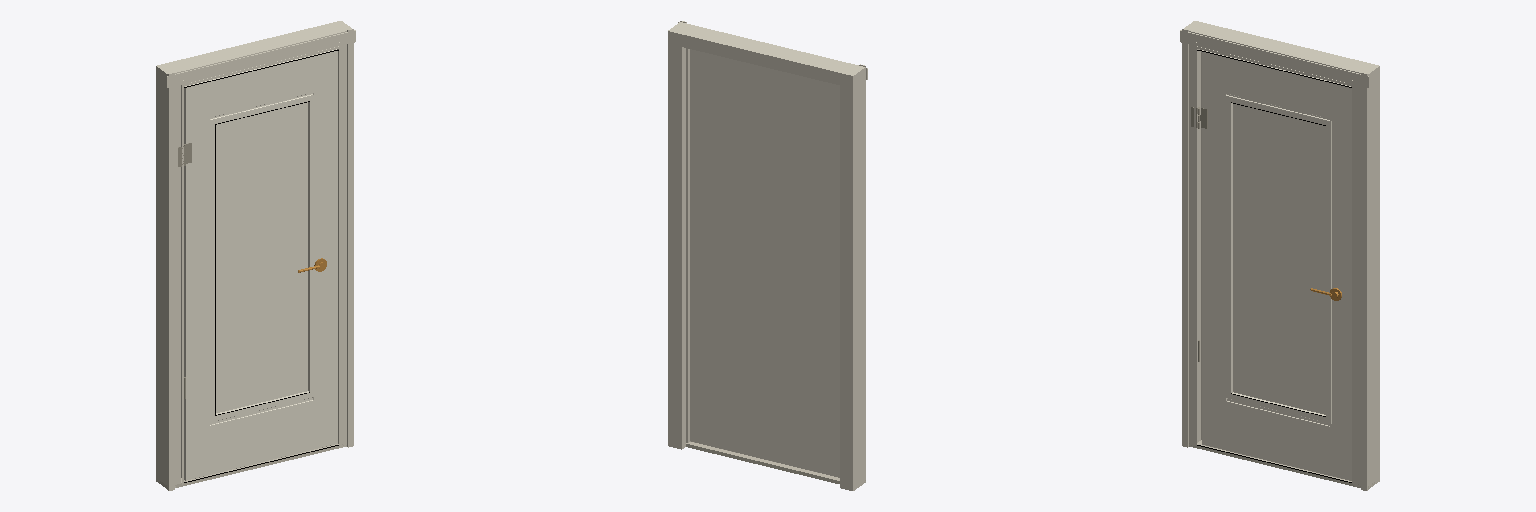
URDF robot description (single_leaf_interior_door):
<?xml version='1.0' encoding='utf-8'?>
<robot name="single_leaf_interior_door">
  <material name="off_white_frame_satin">
    <color rgba="0.88 0.86 0.8 1" />
  </material>
  <material name="off_white_door_satin">
    <color rgba="0.92 0.9 0.84 1" />
  </material>
  <material name="dark_reveal_gasket">
    <color rgba="0.02 0.018 0.015 1" />
  </material>
  <material name="satin_nickel">
    <color rgba="0.66 0.64 0.58 1" />
  </material>
  <material name="warm_brushed_brass">
    <color rgba="0.78 0.58 0.31 1" />
  </material>
  <material name="painted_low_sill">
    <color rgba="0.82 0.8 0.74 1" />
  </material>
  <link name="fixed_frame">
    <visual name="left_jamb">
      <origin xyz="-0.055 0.0575 1.07" rpy="0 0 0" />
      <geometry>
        <box size="0.07 0.115 2.14" />
      </geometry>
      <material name="off_white_frame_satin">
        <color rgba="0.88 0.86 0.8 1" />
      </material>
    </visual>
    <visual name="right_jamb">
      <origin xyz="0.8715 0.0575 1.07" rpy="0 0 0" />
      <geometry>
        <box size="0.077 0.115 2.14" />
      </geometry>
      <material name="off_white_frame_satin">
        <color rgba="0.88 0.86 0.8 1" />
      </material>
    </visual>
    <visual name="header">
      <origin xyz="0.41 0.0575 2.1075" rpy="0 0 0" />
      <geometry>
        <box size="1 0.115 0.065" />
      </geometry>
      <material name="off_white_frame_satin">
        <color rgba="0.88 0.86 0.8 1" />
      </material>
    </visual>
    <visual name="left_casing_trim">
      <origin xyz="-0.073 -0.003 1.07" rpy="0 0 0" />
      <geometry>
        <box size="0.034 0.006 2.15" />
      </geometry>
      <material name="off_white_frame_satin">
        <color rgba="0.88 0.86 0.8 1" />
      </material>
    </visual>
    <visual name="right_casing_trim">
      <origin xyz="0.893 -0.003 1.07" rpy="0 0 0" />
      <geometry>
        <box size="0.034 0.006 2.15" />
      </geometry>
      <material name="off_white_frame_satin">
        <color rgba="0.88 0.86 0.8 1" />
      </material>
    </visual>
    <visual name="header_casing_trim">
      <origin xyz="0.41 -0.003 2.105" rpy="0 0 0" />
      <geometry>
        <box size="1.02 0.006 0.06" />
      </geometry>
      <material name="off_white_frame_satin">
        <color rgba="0.88 0.86 0.8 1" />
      </material>
    </visual>
    <visual name="left_trim_lip">
      <origin xyz="-0.014 -0.0065 1.055" rpy="0 0 0" />
      <geometry>
        <box size="0.012 0.003 2.08" />
      </geometry>
      <material name="off_white_frame_satin">
        <color rgba="0.88 0.86 0.8 1" />
      </material>
    </visual>
    <visual name="right_trim_lip">
      <origin xyz="0.834 -0.0065 1.055" rpy="0 0 0" />
      <geometry>
        <box size="0.012 0.003 2.08" />
      </geometry>
      <material name="off_white_frame_satin">
        <color rgba="0.88 0.86 0.8 1" />
      </material>
    </visual>
    <visual name="header_trim_lip">
      <origin xyz="0.41 -0.0065 2.069" rpy="0 0 0" />
      <geometry>
        <box size="0.86 0.003 0.012" />
      </geometry>
      <material name="off_white_frame_satin">
        <color rgba="0.88 0.86 0.8 1" />
      </material>
    </visual>
    <visual name="left_door_stop">
      <origin xyz="-0.0125 0.066 1.035" rpy="0 0 0" />
      <geometry>
        <box size="0.015 0.018 2.05" />
      </geometry>
      <material name="off_white_frame_satin">
        <color rgba="0.88 0.86 0.8 1" />
      </material>
    </visual>
    <visual name="right_door_stop">
      <origin xyz="0.8325 0.066 1.035" rpy="0 0 0" />
      <geometry>
        <box size="0.015 0.018 2.05" />
      </geometry>
      <material name="off_white_frame_satin">
        <color rgba="0.88 0.86 0.8 1" />
      </material>
    </visual>
    <visual name="header_door_stop">
      <origin xyz="0.41 0.066 2.062" rpy="0 0 0" />
      <geometry>
        <box size="0.86 0.018 0.014" />
      </geometry>
      <material name="off_white_frame_satin">
        <color rgba="0.88 0.86 0.8 1" />
      </material>
    </visual>
    <visual name="dark_reveal_left">
      <origin xyz="-0.018 -0.005 1.035" rpy="0 0 0" />
      <geometry>
        <box size="0.004 0.002 2.036" />
      </geometry>
      <material name="dark_reveal_gasket">
        <color rgba="0.02 0.018 0.015 1" />
      </material>
    </visual>
    <visual name="dark_reveal_right">
      <origin xyz="0.838 -0.005 1.035" rpy="0 0 0" />
      <geometry>
        <box size="0.004 0.002 2.036" />
      </geometry>
      <material name="dark_reveal_gasket">
        <color rgba="0.02 0.018 0.015 1" />
      </material>
    </visual>
    <visual name="dark_reveal_header">
      <origin xyz="0.41 -0.005 2.056" rpy="0 0 0" />
      <geometry>
        <box size="0.86 0.002 0.004" />
      </geometry>
      <material name="dark_reveal_gasket">
        <color rgba="0.02 0.018 0.015 1" />
      </material>
    </visual>
    <visual name="threshold">
      <origin xyz="0.41 0.04 0.009" rpy="0 0 0" />
      <geometry>
        <box size="1 0.08 0.018" />
      </geometry>
      <material name="painted_low_sill">
        <color rgba="0.82 0.8 0.74 1" />
      </material>
    </visual>
    <visual name="dark_reveal_threshold">
      <origin xyz="0.41 -0.005 0.02" rpy="0 0 0" />
      <geometry>
        <box size="0.86 0.002 0.004" />
      </geometry>
      <material name="dark_reveal_gasket">
        <color rgba="0.02 0.018 0.015 1" />
      </material>
    </visual>
    <collision name="left_jamb">
      <origin xyz="-0.055 0.0575 1.07" rpy="0 0 0" />
      <geometry>
        <box size="0.07 0.115 2.14" />
      </geometry>
    </collision>
    <collision name="right_jamb">
      <origin xyz="0.8715 0.0575 1.07" rpy="0 0 0" />
      <geometry>
        <box size="0.077 0.115 2.14" />
      </geometry>
    </collision>
    <collision name="header">
      <origin xyz="0.41 0.0575 2.1075" rpy="0 0 0" />
      <geometry>
        <box size="1 0.115 0.065" />
      </geometry>
    </collision>
    <collision name="left_casing_trim">
      <origin xyz="-0.073 -0.003 1.07" rpy="0 0 0" />
      <geometry>
        <box size="0.034 0.006 2.15" />
      </geometry>
    </collision>
    <collision name="right_casing_trim">
      <origin xyz="0.893 -0.003 1.07" rpy="0 0 0" />
      <geometry>
        <box size="0.034 0.006 2.15" />
      </geometry>
    </collision>
    <collision name="header_casing_trim">
      <origin xyz="0.41 -0.003 2.105" rpy="0 0 0" />
      <geometry>
        <box size="1.02 0.006 0.06" />
      </geometry>
    </collision>
    <collision name="left_trim_lip">
      <origin xyz="-0.014 -0.0065 1.055" rpy="0 0 0" />
      <geometry>
        <box size="0.012 0.003 2.08" />
      </geometry>
    </collision>
    <collision name="right_trim_lip">
      <origin xyz="0.834 -0.0065 1.055" rpy="0 0 0" />
      <geometry>
        <box size="0.012 0.003 2.08" />
      </geometry>
    </collision>
    <collision name="header_trim_lip">
      <origin xyz="0.41 -0.0065 2.069" rpy="0 0 0" />
      <geometry>
        <box size="0.86 0.003 0.012" />
      </geometry>
    </collision>
    <collision name="left_door_stop">
      <origin xyz="-0.0125 0.066 1.035" rpy="0 0 0" />
      <geometry>
        <box size="0.015 0.018 2.05" />
      </geometry>
    </collision>
    <collision name="right_door_stop">
      <origin xyz="0.8325 0.066 1.035" rpy="0 0 0" />
      <geometry>
        <box size="0.015 0.018 2.05" />
      </geometry>
    </collision>
    <collision name="header_door_stop">
      <origin xyz="0.41 0.066 2.062" rpy="0 0 0" />
      <geometry>
        <box size="0.86 0.018 0.014" />
      </geometry>
    </collision>
    <collision name="dark_reveal_left">
      <origin xyz="-0.018 -0.005 1.035" rpy="0 0 0" />
      <geometry>
        <box size="0.004 0.002 2.036" />
      </geometry>
    </collision>
    <collision name="dark_reveal_right">
      <origin xyz="0.838 -0.005 1.035" rpy="0 0 0" />
      <geometry>
        <box size="0.004 0.002 2.036" />
      </geometry>
    </collision>
    <collision name="dark_reveal_header">
      <origin xyz="0.41 -0.005 2.056" rpy="0 0 0" />
      <geometry>
        <box size="0.86 0.002 0.004" />
      </geometry>
    </collision>
    <collision name="threshold">
      <origin xyz="0.41 0.04 0.009" rpy="0 0 0" />
      <geometry>
        <box size="1 0.08 0.018" />
      </geometry>
    </collision>
    <collision name="dark_reveal_threshold">
      <origin xyz="0.41 -0.005 0.02" rpy="0 0 0" />
      <geometry>
        <box size="0.86 0.002 0.004" />
      </geometry>
    </collision>
  </link>
  <link name="door_panel">
    <visual name="door_leaf">
      <geometry>
        <mesh filename="assets/meshes/raised_panel_door_leaf.obj" />
      </geometry>
      <material name="off_white_door_satin">
        <color rgba="0.92 0.9 0.84 1" />
      </material>
    </visual>
    <visual name="recess_shadow_top">
      <origin xyz="0.424 0.0082 1.82" rpy="0 0 0" />
      <geometry>
        <box size="0.512 0.0015 0.003" />
      </geometry>
      <material name="dark_reveal_gasket">
        <color rgba="0.02 0.018 0.015 1" />
      </material>
    </visual>
    <visual name="recess_shadow_bottom">
      <origin xyz="0.424 0.0082 0.32" rpy="0 0 0" />
      <geometry>
        <box size="0.512 0.0015 0.003" />
      </geometry>
      <material name="dark_reveal_gasket">
        <color rgba="0.02 0.018 0.015 1" />
      </material>
    </visual>
    <visual name="recess_shadow_left">
      <origin xyz="0.168 0.0082 1.07" rpy="0 0 0" />
      <geometry>
        <box size="0.003 0.0015 1.5" />
      </geometry>
      <material name="dark_reveal_gasket">
        <color rgba="0.02 0.018 0.015 1" />
      </material>
    </visual>
    <visual name="recess_shadow_right">
      <origin xyz="0.68 0.0082 1.07" rpy="0 0 0" />
      <geometry>
        <box size="0.003 0.0015 1.5" />
      </geometry>
      <material name="dark_reveal_gasket">
        <color rgba="0.02 0.018 0.015 1" />
      </material>
    </visual>
    <collision name="door_leaf">
      <geometry>
        <mesh filename="assets/meshes/raised_panel_door_leaf.obj" />
      </geometry>
    </collision>
    <collision name="recess_shadow_top">
      <origin xyz="0.424 0.0082 1.82" rpy="0 0 0" />
      <geometry>
        <box size="0.512 0.0015 0.003" />
      </geometry>
    </collision>
    <collision name="recess_shadow_bottom">
      <origin xyz="0.424 0.0082 0.32" rpy="0 0 0" />
      <geometry>
        <box size="0.512 0.0015 0.003" />
      </geometry>
    </collision>
    <collision name="recess_shadow_left">
      <origin xyz="0.168 0.0082 1.07" rpy="0 0 0" />
      <geometry>
        <box size="0.003 0.0015 1.5" />
      </geometry>
    </collision>
    <collision name="recess_shadow_right">
      <origin xyz="0.68 0.0082 1.07" rpy="0 0 0" />
      <geometry>
        <box size="0.003 0.0015 1.5" />
      </geometry>
    </collision>
  </link>
  <link name="hinge_leaf_frame_0">
    <visual name="hinge_leaf_frame">
      <geometry>
        <mesh filename="assets/meshes/hinge_leaf_frame_0.obj" />
      </geometry>
      <material name="satin_nickel">
        <color rgba="0.66 0.64 0.58 1" />
      </material>
    </visual>
    <collision name="hinge_leaf_frame">
      <geometry>
        <mesh filename="assets/meshes/hinge_leaf_frame_0.obj" />
      </geometry>
    </collision>
  </link>
  <link name="hinge_pin_0">
    <visual name="hinge_pin">
      <geometry>
        <cylinder radius="0.0048" length="0.11" />
      </geometry>
      <material name="satin_nickel">
        <color rgba="0.66 0.64 0.58 1" />
      </material>
    </visual>
    <collision name="hinge_pin">
      <geometry>
        <cylinder radius="0.0048" length="0.11" />
      </geometry>
    </collision>
  </link>
  <link name="hinge_leaf_panel_0">
    <visual name="hinge_leaf_panel">
      <geometry>
        <mesh filename="assets/meshes/hinge_leaf_panel_0.obj" />
      </geometry>
      <material name="satin_nickel">
        <color rgba="0.66 0.64 0.58 1" />
      </material>
    </visual>
    <collision name="hinge_leaf_panel">
      <geometry>
        <mesh filename="assets/meshes/hinge_leaf_panel_0.obj" />
      </geometry>
    </collision>
  </link>
  <link name="hinge_leaf_frame_1">
    <visual name="hinge_leaf_frame">
      <geometry>
        <mesh filename="assets/meshes/hinge_leaf_frame_1.obj" />
      </geometry>
      <material name="satin_nickel">
        <color rgba="0.66 0.64 0.58 1" />
      </material>
    </visual>
    <collision name="hinge_leaf_frame">
      <geometry>
        <mesh filename="assets/meshes/hinge_leaf_frame_1.obj" />
      </geometry>
    </collision>
  </link>
  <link name="hinge_pin_1">
    <visual name="hinge_pin">
      <geometry>
        <cylinder radius="0.0048" length="0.11" />
      </geometry>
      <material name="satin_nickel">
        <color rgba="0.66 0.64 0.58 1" />
      </material>
    </visual>
    <collision name="hinge_pin">
      <geometry>
        <cylinder radius="0.0048" length="0.11" />
      </geometry>
    </collision>
  </link>
  <link name="hinge_leaf_panel_1">
    <visual name="hinge_leaf_panel">
      <geometry>
        <mesh filename="assets/meshes/hinge_leaf_panel_1.obj" />
      </geometry>
      <material name="satin_nickel">
        <color rgba="0.66 0.64 0.58 1" />
      </material>
    </visual>
    <collision name="hinge_leaf_panel">
      <geometry>
        <mesh filename="assets/meshes/hinge_leaf_panel_1.obj" />
      </geometry>
    </collision>
  </link>
  <link name="handle_back_plate">
    <visual name="round_rosette">
      <origin xyz="0 0 0" rpy="1.5708 0 0" />
      <geometry>
        <cylinder radius="0.032" length="0.009" />
      </geometry>
      <material name="warm_brushed_brass">
        <color rgba="0.78 0.58 0.31 1" />
      </material>
    </visual>
    <visual name="rosette_hub">
      <origin xyz="0 -0.001 0" rpy="1.5708 0 0" />
      <geometry>
        <cylinder radius="0.019" length="0.01" />
      </geometry>
      <material name="warm_brushed_brass">
        <color rgba="0.78 0.58 0.31 1" />
      </material>
    </visual>
    <collision name="round_rosette">
      <origin xyz="0 0 0" rpy="1.5708 0 0" />
      <geometry>
        <cylinder radius="0.032" length="0.009" />
      </geometry>
    </collision>
    <collision name="rosette_hub">
      <origin xyz="0 -0.001 0" rpy="1.5708 0 0" />
      <geometry>
        <cylinder radius="0.019" length="0.01" />
      </geometry>
    </collision>
  </link>
  <link name="lever_handle">
    <visual name="spindle_hub">
      <origin xyz="0 0 0.005" rpy="3.67320510335e-06 -0 0" />
      <geometry>
        <cylinder radius="0.017" length="0.01" />
      </geometry>
      <material name="warm_brushed_brass">
        <color rgba="0.78 0.58 0.31 1" />
      </material>
    </visual>
    <visual name="lever_grip">
      <origin xyz="0 0 0" rpy="-1.57079632679 -0 0" />
      <geometry>
        <mesh filename="assets/meshes/lever_grip.obj" />
      </geometry>
      <material name="warm_brushed_brass">
        <color rgba="0.78 0.58 0.31 1" />
      </material>
    </visual>
    <collision name="spindle_hub">
      <origin xyz="0 0 0.005" rpy="3.67320510335e-06 -0 0" />
      <geometry>
        <cylinder radius="0.017" length="0.01" />
      </geometry>
    </collision>
    <collision name="lever_grip">
      <origin xyz="0 0 0" rpy="-1.57079632679 -0 0" />
      <geometry>
        <mesh filename="assets/meshes/lever_grip.obj" />
      </geometry>
    </collision>
  </link>
  <link name="latch_edge">
    <visual name="latch_faceplate">
      <geometry>
        <box size="0.002 0.026 0.118" />
      </geometry>
      <material name="satin_nickel">
        <color rgba="0.66 0.64 0.58 1" />
      </material>
    </visual>
    <visual name="small_latch_tongue">
      <origin xyz="0.0022 0 0" rpy="0 0 0" />
      <geometry>
        <box size="0.0025 0.01 0.026" />
      </geometry>
      <material name="warm_brushed_brass">
        <color rgba="0.78 0.58 0.31 1" />
      </material>
    </visual>
    <collision name="latch_faceplate">
      <geometry>
        <box size="0.002 0.026 0.118" />
      </geometry>
    </collision>
    <collision name="small_latch_tongue">
      <origin xyz="0.0022 0 0" rpy="0 0 0" />
      <geometry>
        <box size="0.0025 0.01 0.026" />
      </geometry>
    </collision>
  </link>
  <link name="strike_plate">
    <visual name="strike_plate">
      <geometry>
        <box size="0.002 0.034 0.14" />
      </geometry>
      <material name="satin_nickel">
        <color rgba="0.66 0.64 0.58 1" />
      </material>
    </visual>
    <visual name="strike_pocket">
      <origin xyz="-0.0003 0 0" rpy="0 0 0" />
      <geometry>
        <box size="0.0023 0.018 0.04" />
      </geometry>
      <material name="dark_reveal_gasket">
        <color rgba="0.02 0.018 0.015 1" />
      </material>
    </visual>
    <collision name="strike_plate">
      <geometry>
        <box size="0.002 0.034 0.14" />
      </geometry>
    </collision>
    <collision name="strike_pocket">
      <origin xyz="-0.0003 0 0" rpy="0 0 0" />
      <geometry>
        <box size="0.0023 0.018 0.04" />
      </geometry>
    </collision>
  </link>
  <joint name="hinge_leaf_frame_mount_0" type="fixed">
    <origin xyz="0 0 1.705" rpy="0 0 0" />
    <parent link="fixed_frame" />
    <child link="hinge_leaf_frame_0" />
  </joint>
  <joint name="hinge_pin_mount_0" type="fixed">
    <origin xyz="0 0 1.705" rpy="0 0 0" />
    <parent link="fixed_frame" />
    <child link="hinge_pin_0" />
  </joint>
  <joint name="hinge_leaf_panel_mount_0" type="fixed">
    <origin xyz="0 0 1.705" rpy="0 0 0" />
    <parent link="door_panel" />
    <child link="hinge_leaf_panel_0" />
  </joint>
  <joint name="hinge_leaf_frame_mount_1" type="fixed">
    <origin xyz="0 0 0.505" rpy="0 0 0" />
    <parent link="fixed_frame" />
    <child link="hinge_leaf_frame_1" />
  </joint>
  <joint name="hinge_pin_mount_1" type="fixed">
    <origin xyz="0 0 0.505" rpy="0 0 0" />
    <parent link="fixed_frame" />
    <child link="hinge_pin_1" />
  </joint>
  <joint name="hinge_leaf_panel_mount_1" type="fixed">
    <origin xyz="0 0 0.505" rpy="0 0 0" />
    <parent link="door_panel" />
    <child link="hinge_leaf_panel_1" />
  </joint>
  <joint name="handle_back_plate_mount" type="fixed">
    <origin xyz="0.735 0.0045 0.965" rpy="0 0 0" />
    <parent link="door_panel" />
    <child link="handle_back_plate" />
  </joint>
  <joint name="latch_edge_mount" type="fixed">
    <origin xyz="0.831 0.032 0.965" rpy="0 0 0" />
    <parent link="door_panel" />
    <child link="latch_edge" />
  </joint>
  <joint name="strike_plate_mount" type="fixed">
    <origin xyz="0.839 0.032 0.965" rpy="0 0 0" />
    <parent link="fixed_frame" />
    <child link="strike_plate" />
  </joint>
  <joint name="door_hinge_joint" type="revolute">
    <parent link="fixed_frame" />
    <child link="door_panel" />
    <axis xyz="0 0 1" />
    <limit effort="30" velocity="1.2" lower="0" upper="1.8326" />
  </joint>
  <joint name="handle_spindle_joint" type="revolute">
    <origin xyz="0.735 0 0.965" rpy="1.57079632679 -0 0" />
    <parent link="door_panel" />
    <child link="lever_handle" />
    <axis xyz="0 0 1" />
    <limit effort="2" velocity="4" lower="0" upper="0.610865" />
  </joint>
</robot>

--- Render facts (derived) ---
3 views of the same robot in one strip: view 1: azimuth 30°, elevation 25°; view 2: azimuth 150°, elevation 25°; view 3: azimuth 330°, elevation 25° (orthographic).
Robot: single_leaf_interior_door — 12 links, 11 joints (2 revolute, 9 fixed); root link fixed_frame; default pose: every joint at zero.
Visible links, largest first — view 1: door_panel, fixed_frame; view 2: door_panel, fixed_frame; view 3: door_panel, fixed_frame.
Link boxes in pixels (x1,y1,x2,y2): door_panel: [181, 49, 337, 480]; fixed_frame: [156, 21, 355, 490]; door_panel: [690, 49, 839, 477]; fixed_frame: [668, 21, 867, 490]; door_panel: [1202, 50, 1351, 480]; fixed_frame: [1180, 21, 1379, 490].
Bounding box of the posed robot: 1.02 × 0.127 × 2.15 m (x, y, z).
4 mesh visuals loaded from 6 distinct referenced files (4 OBJ); not drawn: 2 (reference not matched to a file when rendering).
